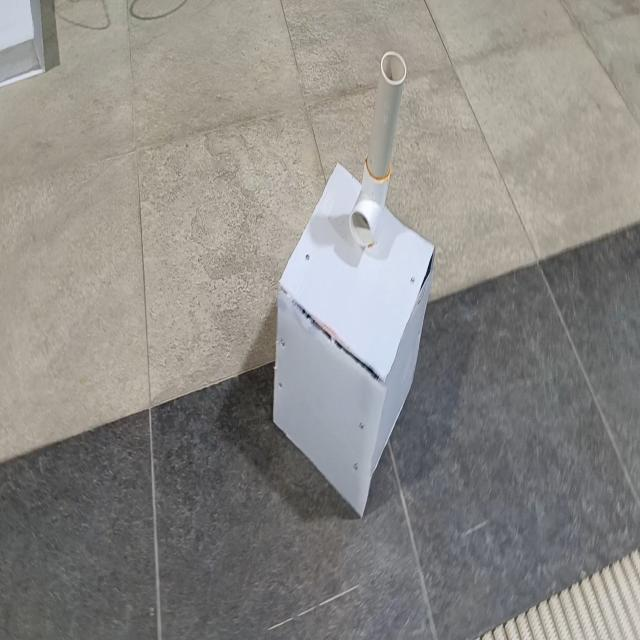Cube: (272, 160, 436, 518)
